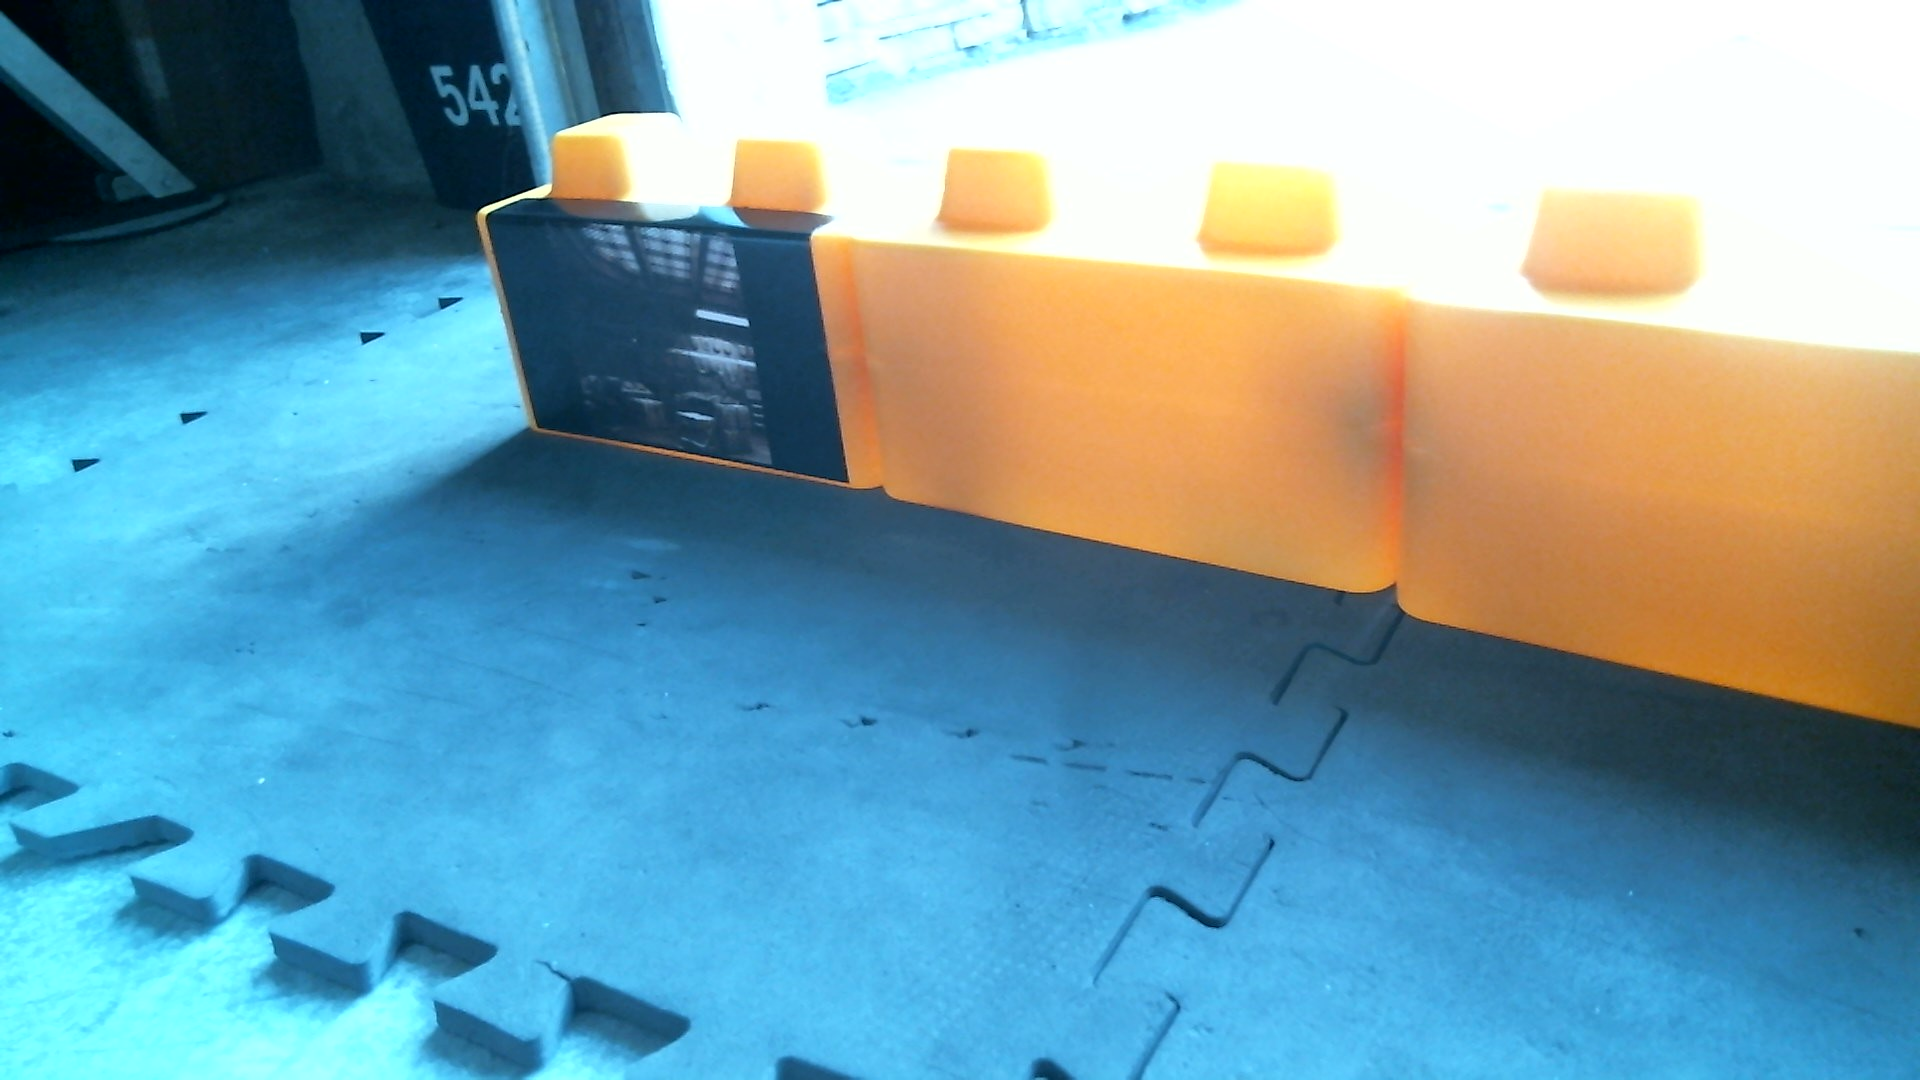left: (463, 79, 1919, 757)
